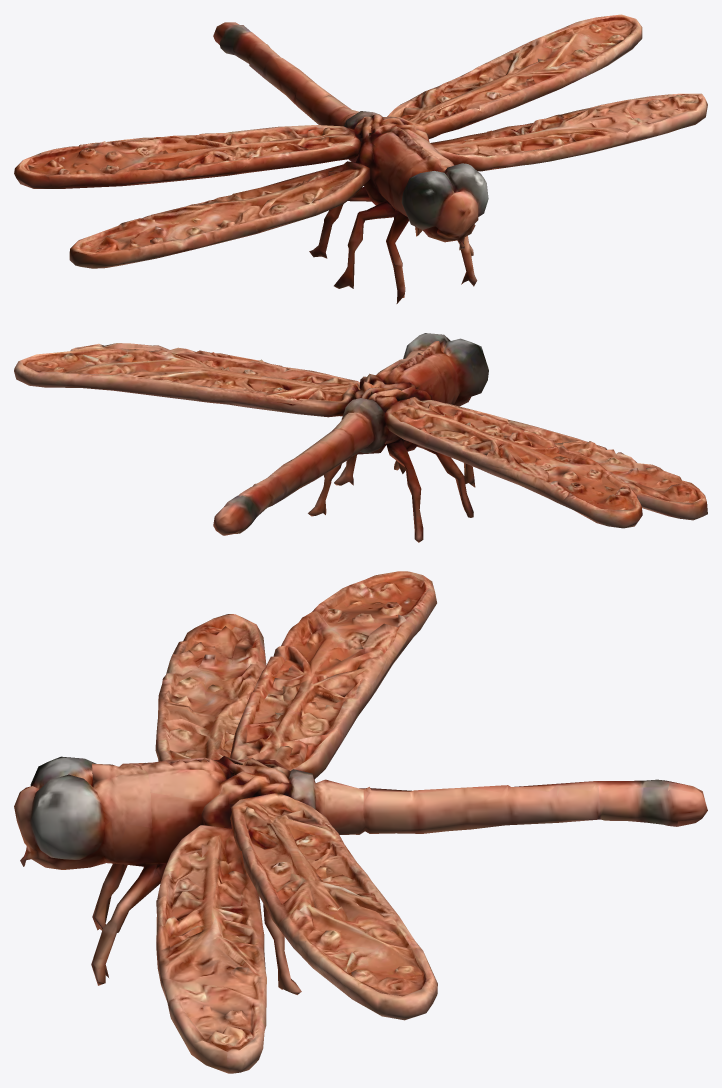
File: anc_dragonfly.glb
The picture shows the model from 3 angles, top to bottom: view 1: azimuth 30°, elevation 25°; view 2: azimuth 150°, elevation 25°; view 3: azimuth 270°, elevation 25°; orthographic projection. The views are drawn at different scales.
Parts seen in each view (by area): view 1: tripo_node_8b62b1db-c264-46ef-8900-1b6391ff3a7b; view 2: tripo_node_8b62b1db-c264-46ef-8900-1b6391ff3a7b; view 3: tripo_node_8b62b1db-c264-46ef-8900-1b6391ff3a7b.
Boxes of the visible parts, x1,y1,x2,y2 form: tripo_node_8b62b1db-c264-46ef-8900-1b6391ff3a7b: (14, 14, 707, 303); tripo_node_8b62b1db-c264-46ef-8900-1b6391ff3a7b: (14, 333, 707, 542); tripo_node_8b62b1db-c264-46ef-8900-1b6391ff3a7b: (14, 571, 707, 1073).
Size of the model in its own units: 0.9777 by 0.2076 by 0.6517.
1 material, 1 textured.
